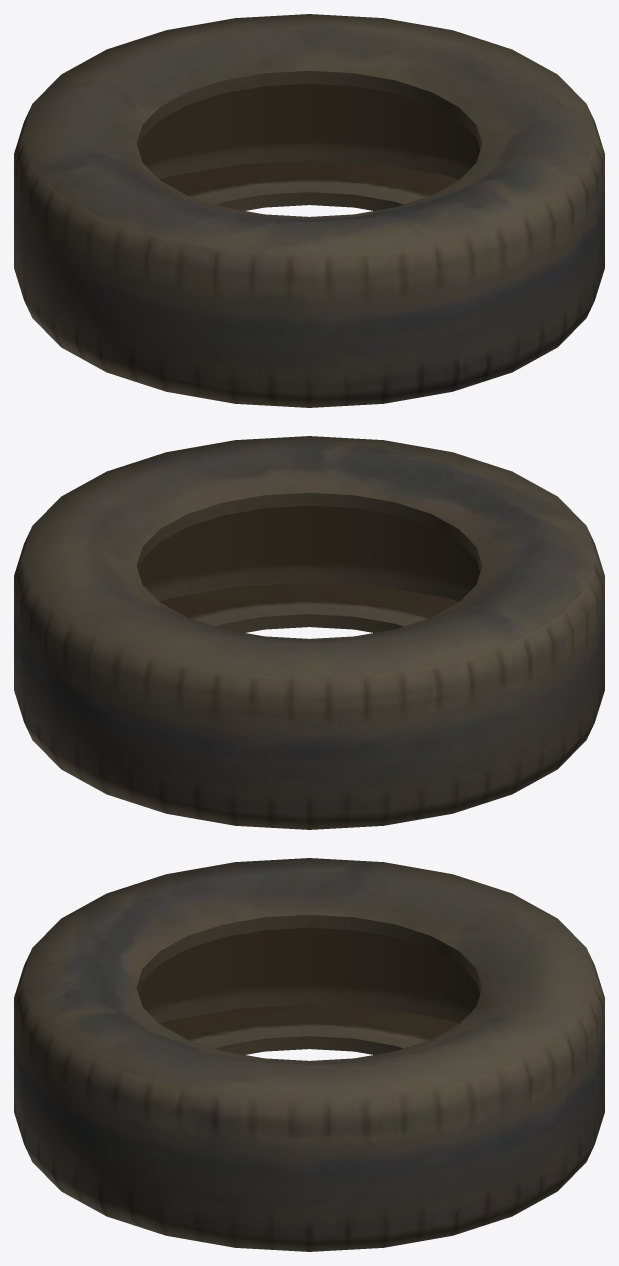
3 renders of one model, top to bottom at view 1: azimuth 30°, elevation 25°; view 2: azimuth 150°, elevation 25°; view 3: azimuth 270°, elevation 25°, orthographic.
Parts seen in each view (by area): view 1: body0_model0_lod0_mesh0; view 2: body0_model0_lod0_mesh0; view 3: body0_model0_lod0_mesh0.
Boxes of the visible parts, x1,y1,x2,y2 form: body0_model0_lod0_mesh0: (14,14,604,407); body0_model0_lod0_mesh0: (14,436,604,829); body0_model0_lod0_mesh0: (14,858,604,1251).
Bounding box in the file's own units: 54.8 × 17.5 × 54.8.
1 material, 1 textured.
